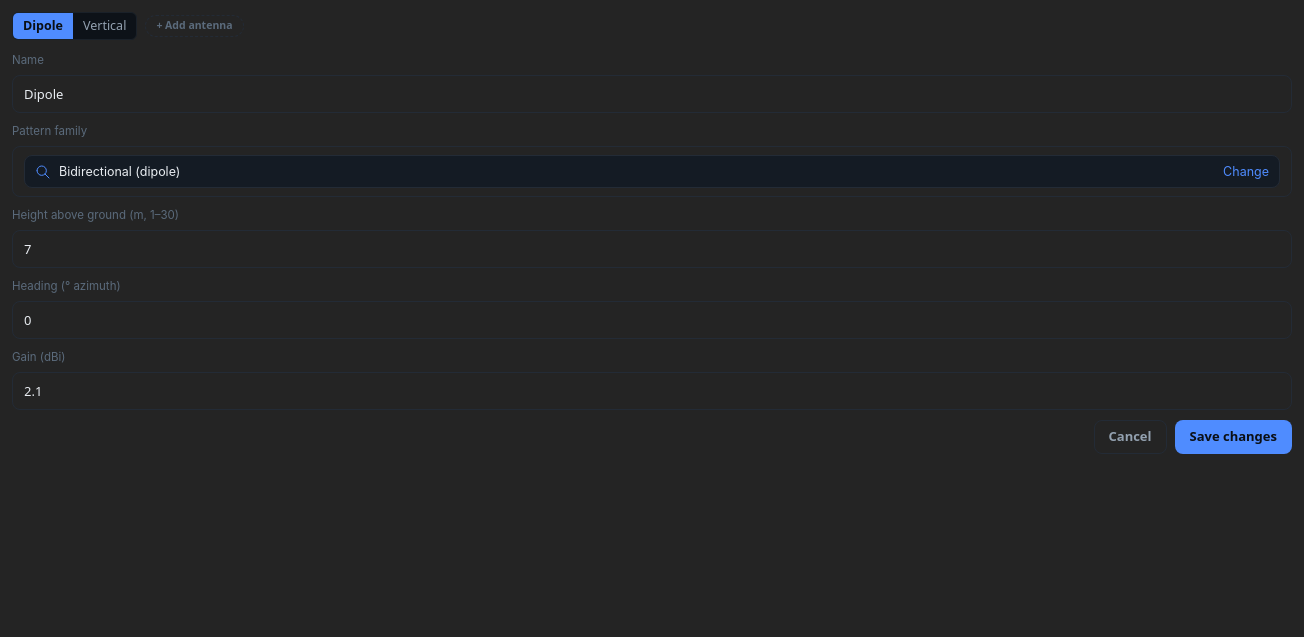
Test: AntennaList › switching the active antenna while the form is dirty › prompts a confirm instead of silently discarding the edit
The width and height of the screenshot is (1304, 637).
Replace the text in the number field named "Height above ground (m)" with "12" at (652, 249), box top-left (24, 239), bottom-right (1280, 259)
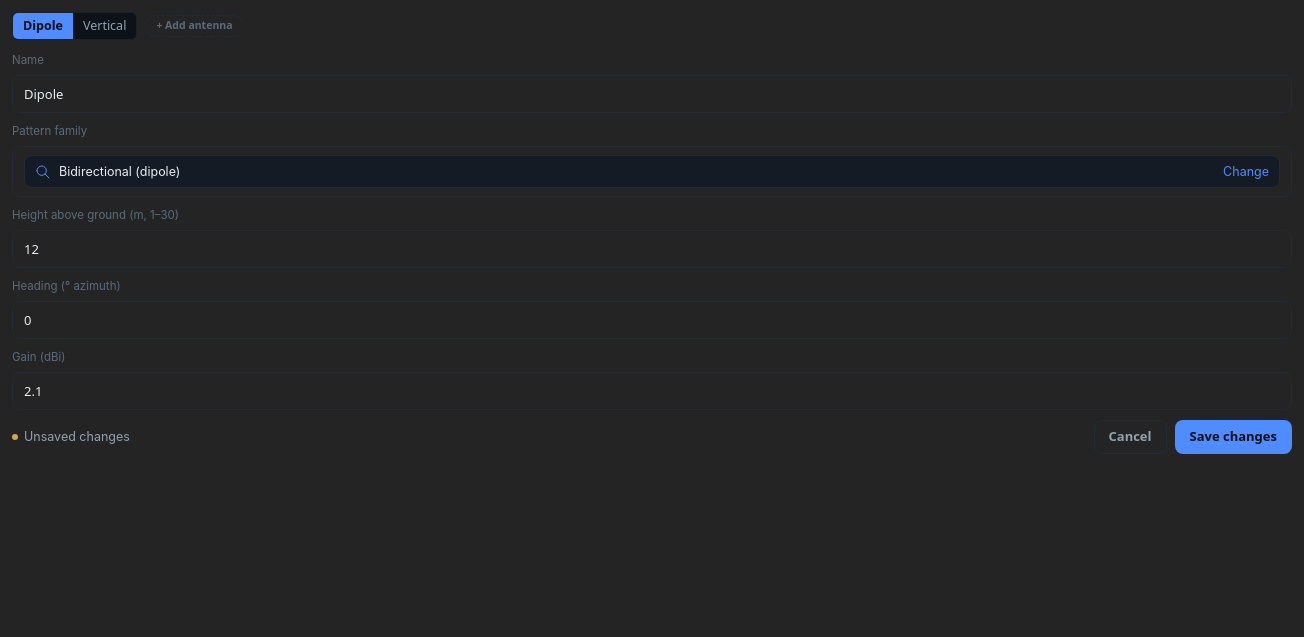
Click the button "Vertical" at (105, 26), box top-left (73, 13), bottom-right (136, 39)
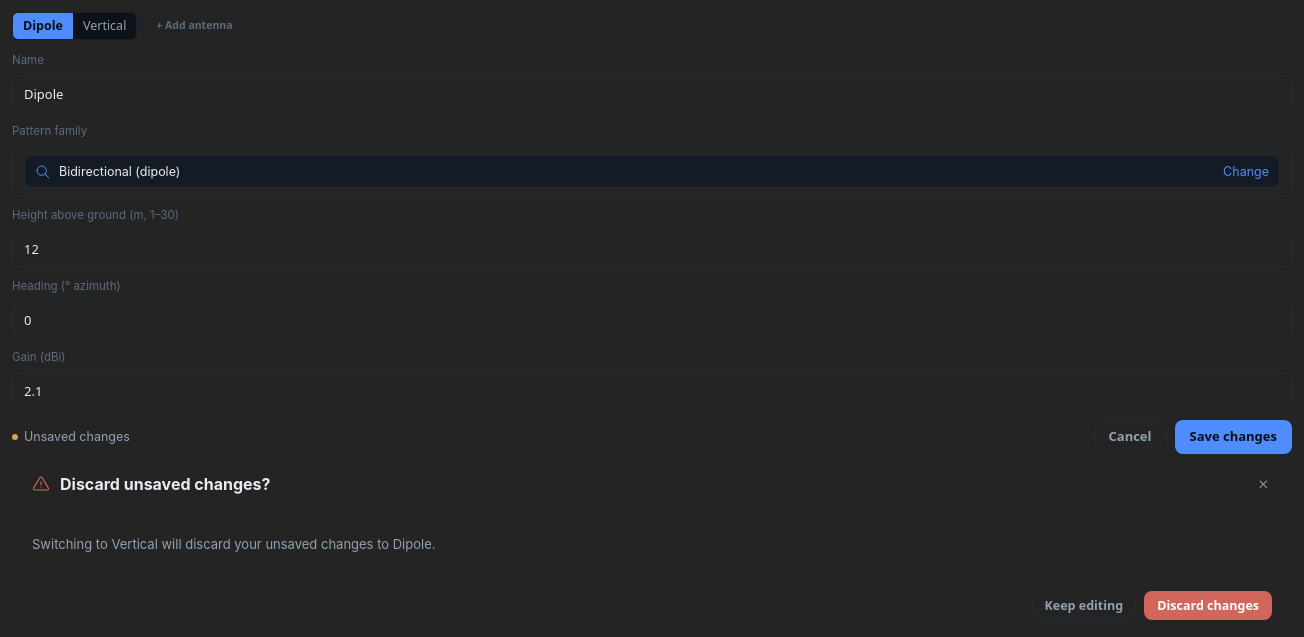
Check: the text "Discard unsaved changes?" is shown, box top-left (60, 474), bottom-right (270, 494)
